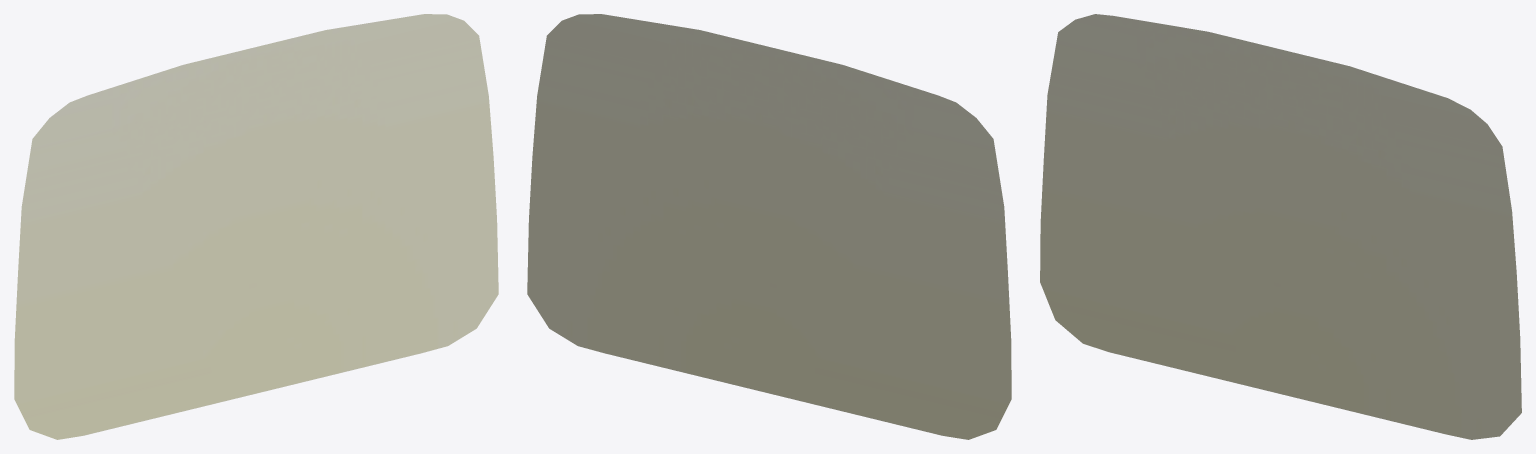
The model's file is DailyBonusReminderButton.fbx.
3 views of the same model, side by side, from view 1: azimuth 30°, elevation 25°; view 2: azimuth 150°, elevation 25°; view 3: azimuth 330°, elevation 25° (orthographic).
Visible parts, largest first — view 1: bonusWheelBase_MDL; view 2: bonusWheelBase_MDL; view 3: bonusWheelBase_MDL.
Part boxes in pixels (x1,y1,x2,y2): bonusWheelBase_MDL: (14, 14, 498, 439); bonusWheelBase_MDL: (527, 14, 1011, 439); bonusWheelBase_MDL: (1040, 14, 1521, 439).
Size of the model in its own units: 0.795 by 0.5435 by 2.59e-07.
Materials: 1 (1 with a texture image).
